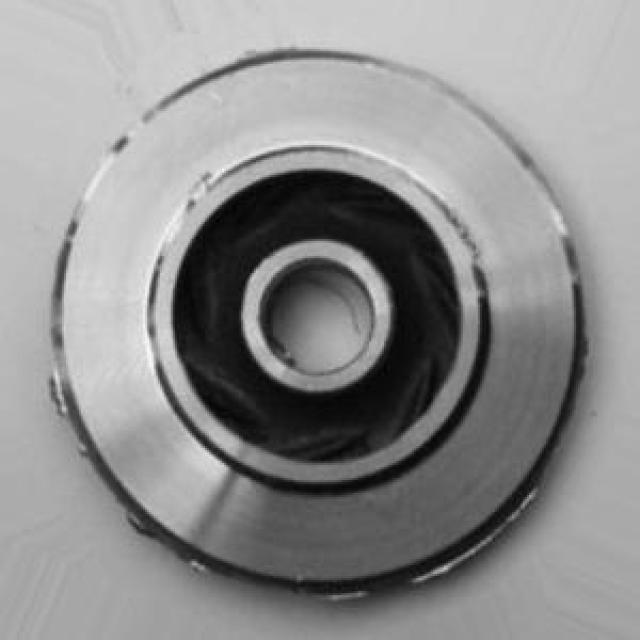Defect: (438, 510, 553, 562)
